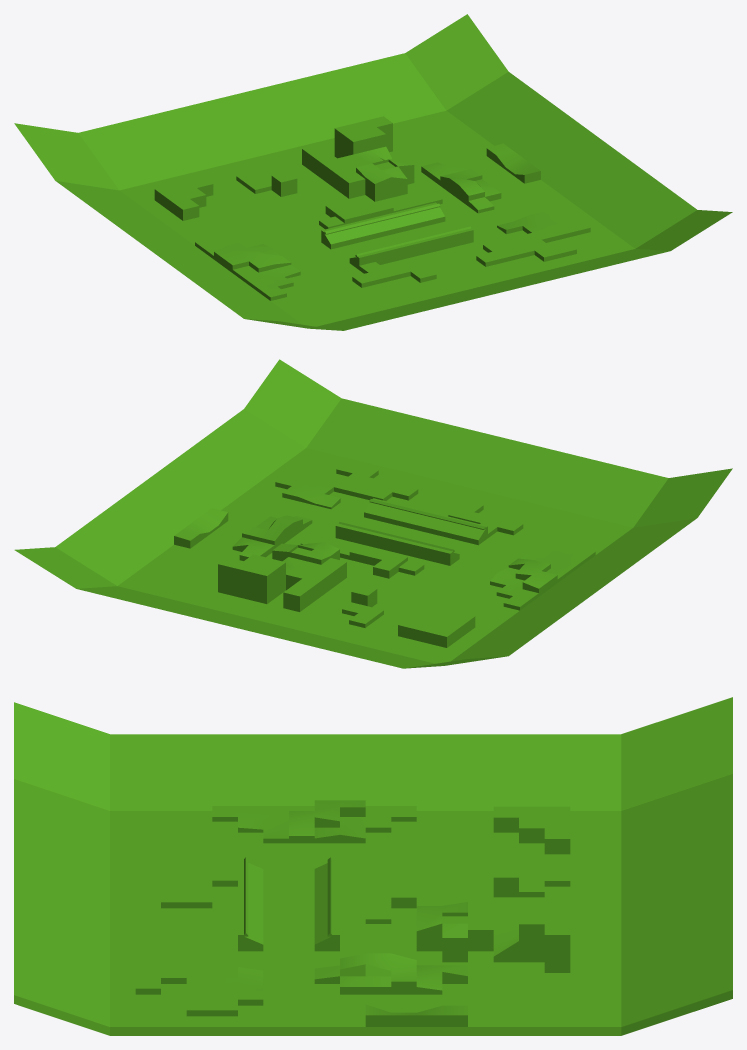
Rendered from Model_Track_Green.FBX.
The picture shows the model from 3 angles, top to bottom: view 1: azimuth 30°, elevation 25°; view 2: azimuth 150°, elevation 25°; view 3: azimuth 270°, elevation 25°; orthographic projection. The views are drawn at different scales.
Visible parts, largest first — view 1: Plane001; view 2: Plane001; view 3: Plane001.
Boxes of the visible parts, x1,y1,x2,y2 form: Plane001: (14, 14, 732, 330); Plane001: (14, 359, 732, 668); Plane001: (14, 697, 732, 1035).
Bounding box in the file's own units: 6934 × 772 × 7031.
